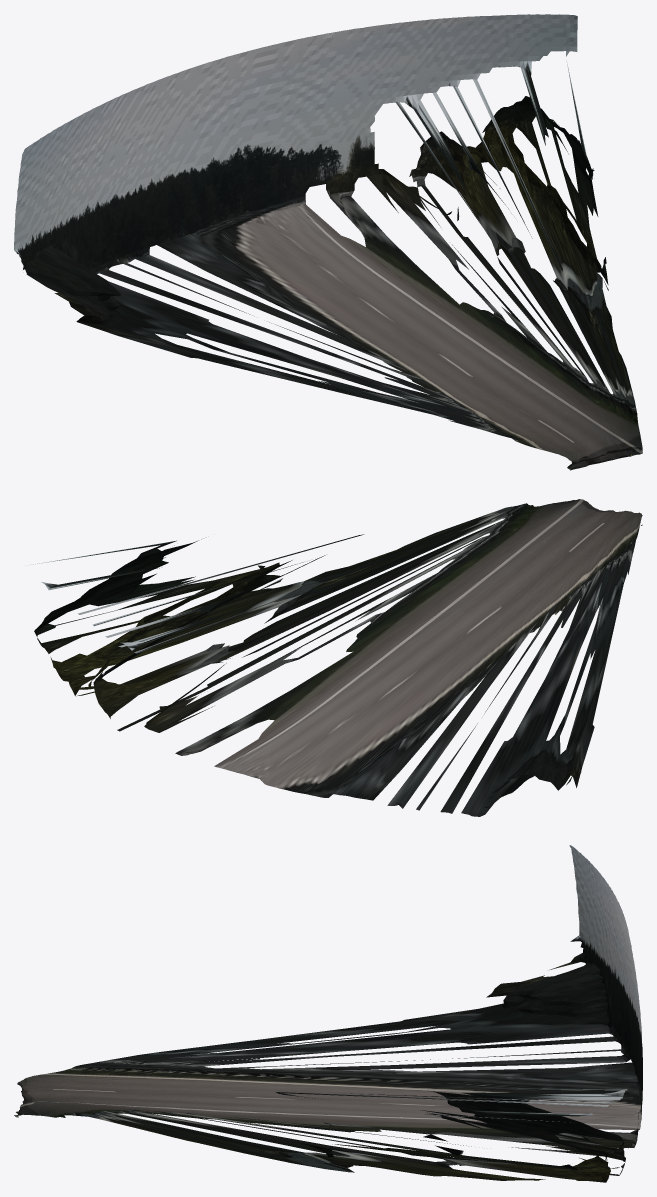
3 views of the same model, one above another, from view 1: azimuth 30°, elevation 25°; view 2: azimuth 150°, elevation 25°; view 3: azimuth 270°, elevation 25° (orthographic). The views are drawn at different scales.
Parts seen in each view (by area): view 1: defaultobject; view 2: defaultobject; view 3: defaultobject.
Part boxes in pixels (x1=…): defaultobject: x1=14, y1=14, x2=642, y2=470; defaultobject: x1=31, y1=499, x2=642, y2=816; defaultobject: x1=14, y1=845, x2=642, y2=1182.
Bounding box in the file's own units: 41 × 12.68 × 44.44.
Materials: 1 (1 with a texture image).
